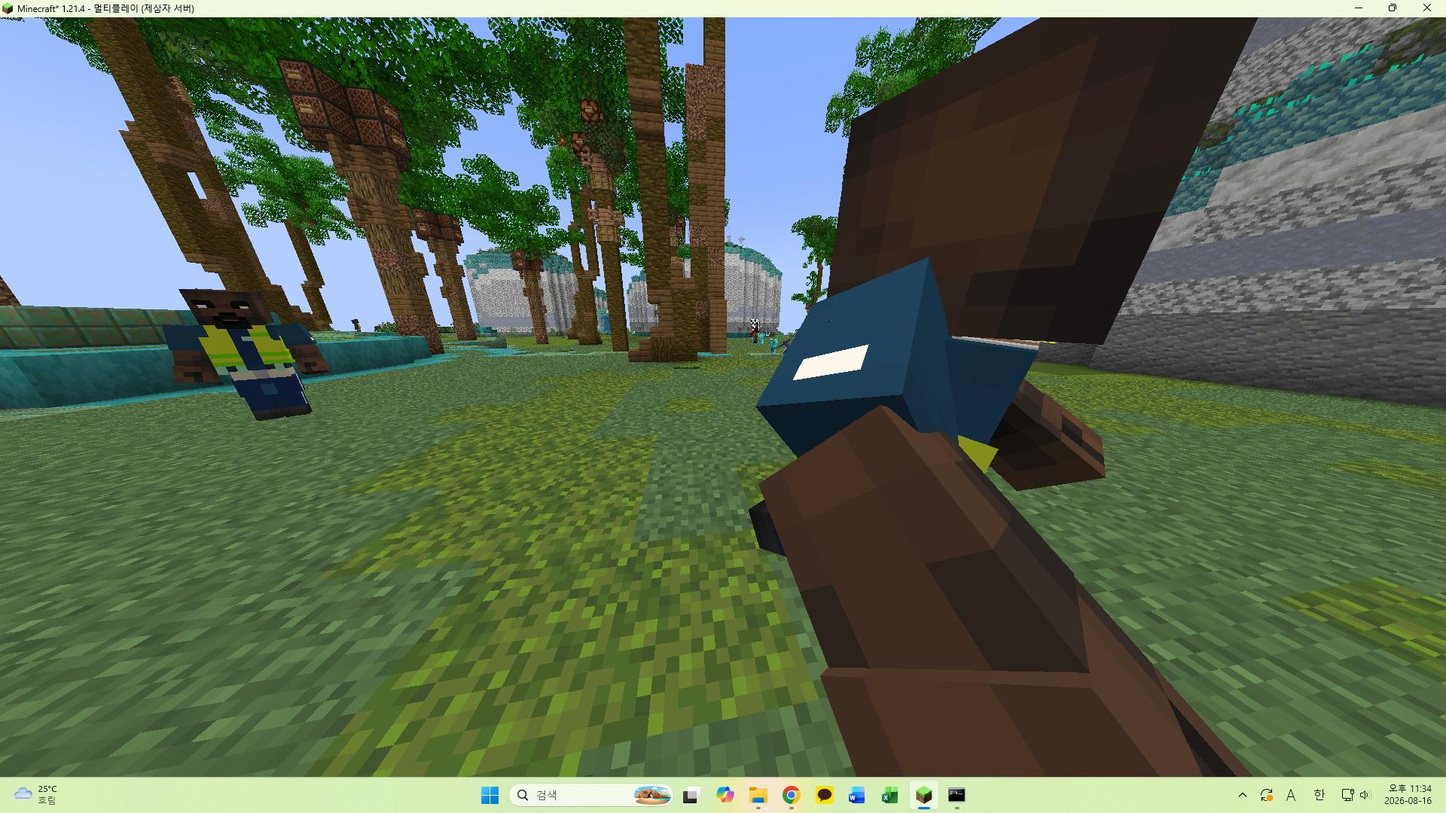Guardian: (750, 19, 1255, 776), (164, 290, 329, 420)
